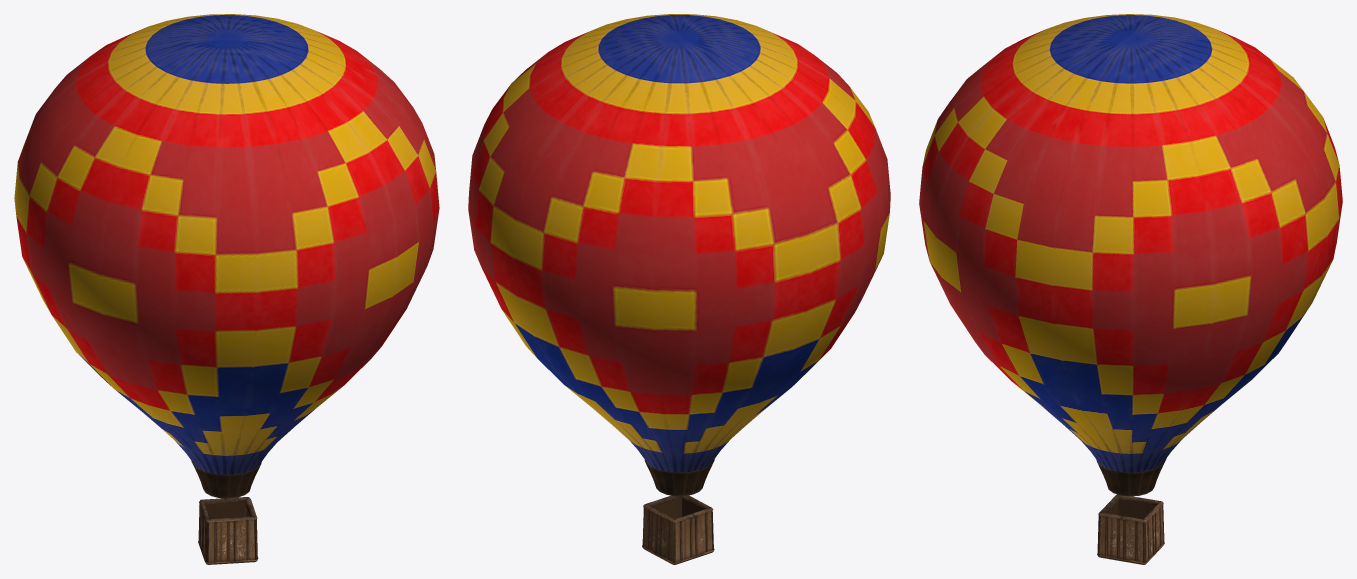
File: Balloon_3.fbx
3 renders of one model, left to right at view 1: azimuth 30°, elevation 25°; view 2: azimuth 150°, elevation 25°; view 3: azimuth 270°, elevation 25°, orthographic.
Parts seen in each view (by area): view 1: BA_3, crate_3; view 2: BA_3, crate_3; view 3: BA_3, crate_3.
Part boxes in pixels (x1=…): BA_3: x1=14, y1=14, x2=439, y2=498; crate_3: x1=198, y1=497, x2=258, y2=564; BA_3: x1=468, y1=14, x2=890, y2=496; crate_3: x1=642, y1=495, x2=714, y2=564; BA_3: x1=919, y1=14, x2=1342, y2=496; crate_3: x1=1097, y1=494, x2=1164, y2=564.
Bounding box in the file's own units: 2265 × 3027 × 2265.
Materials: 2 (2 with a texture image).
